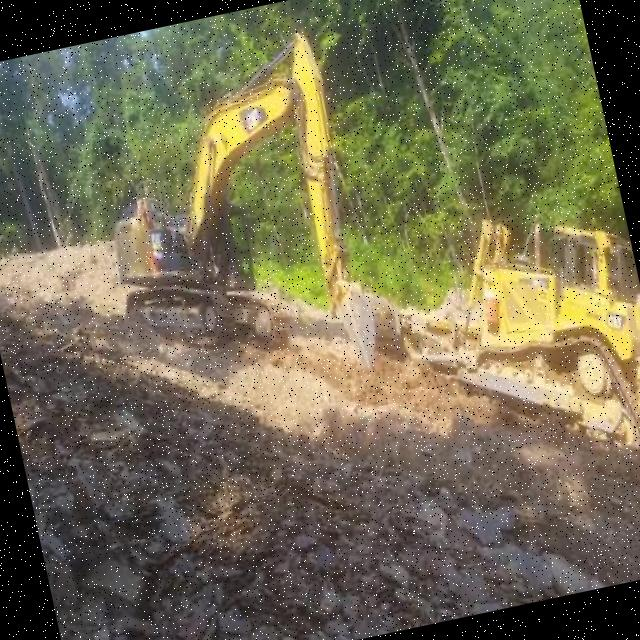Bulldozer: (379, 189, 640, 487)
Excavator: (75, 25, 403, 420)
